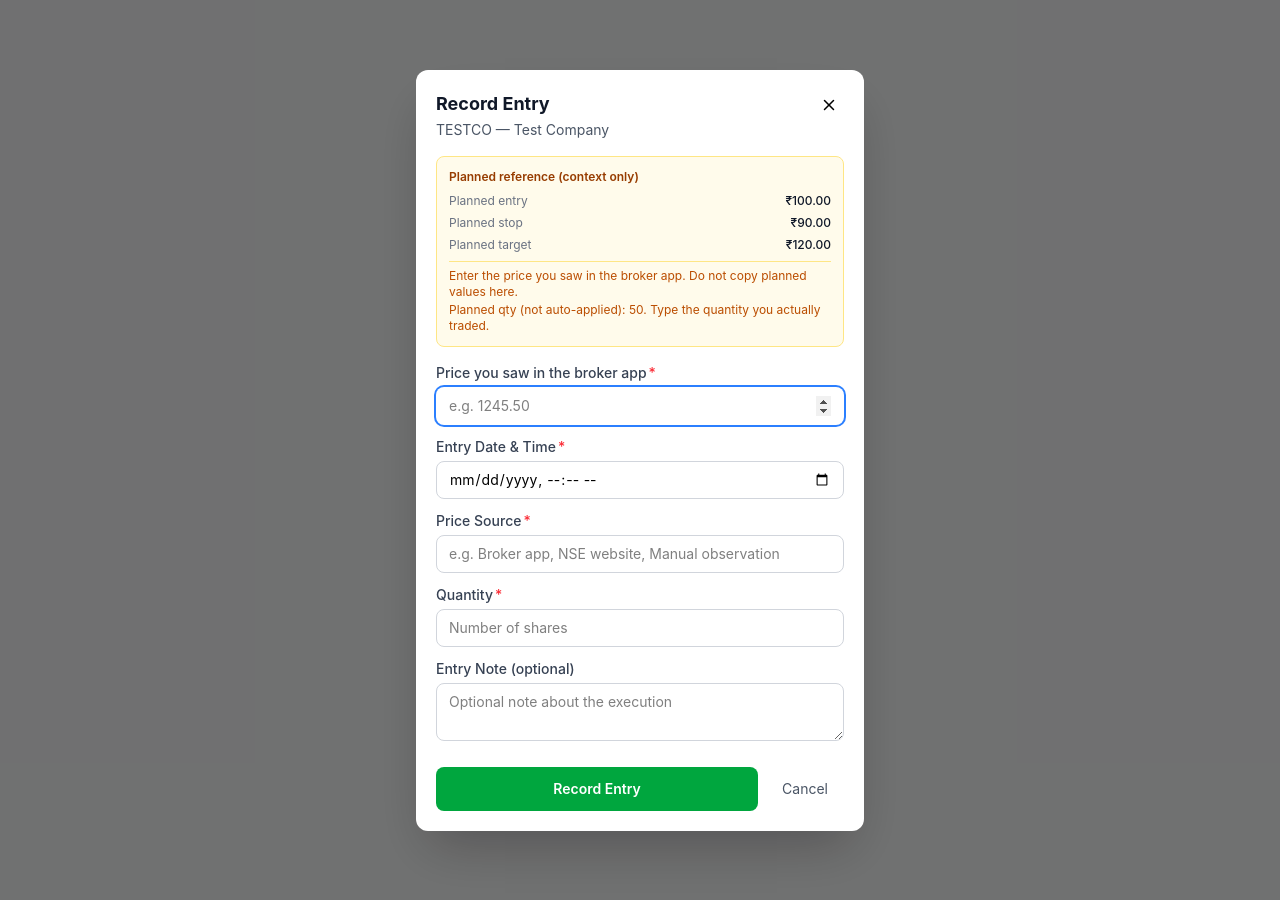
Scenario: OpenTradeModal › shows validation error when entry price is missing
Click the button "Record Entry".
click(597, 788)  # box [436, 766, 758, 810]
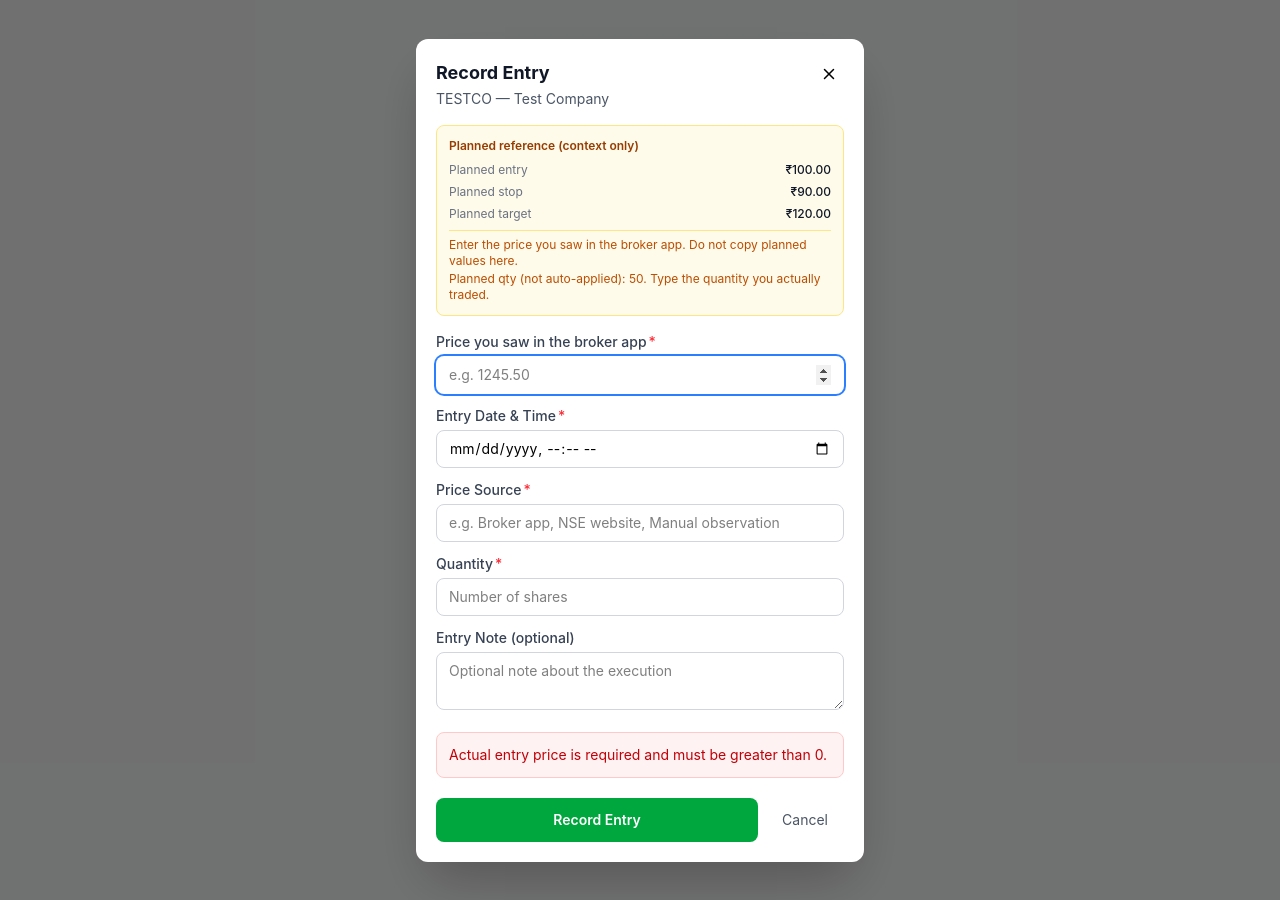
Now the text "Actual entry price is required and must be greater than 0." is shown, box [436, 732, 844, 778]
